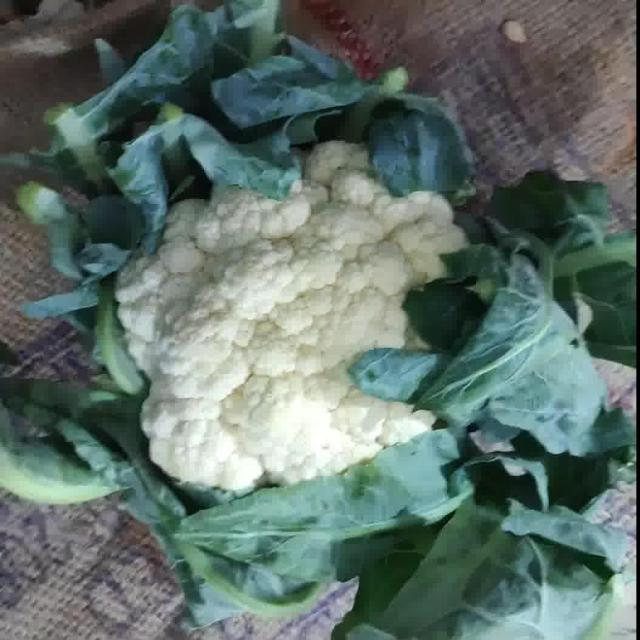Cauliflower: (115, 141, 466, 492)
